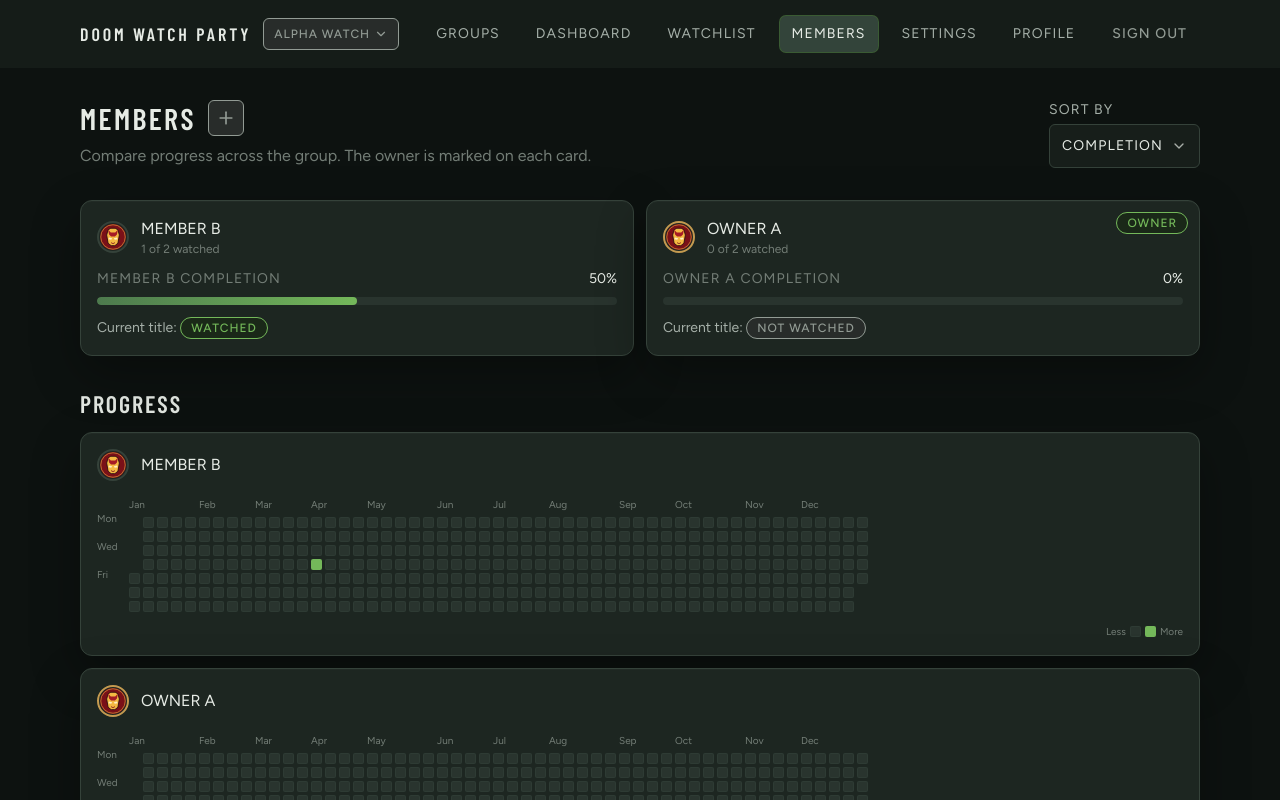
it: members › shows yearly watch activity in the progress section
Expected: the heading "Progress" is shown, [80,389,182,418]
Expected: the element with test id "watch-activity-scroll" that starts with "Mon" is shown, [97,498,868,612]
Hover over the cell named "1 WATCH ON APRIL 1ST": (316, 564) [311,559,322,570]
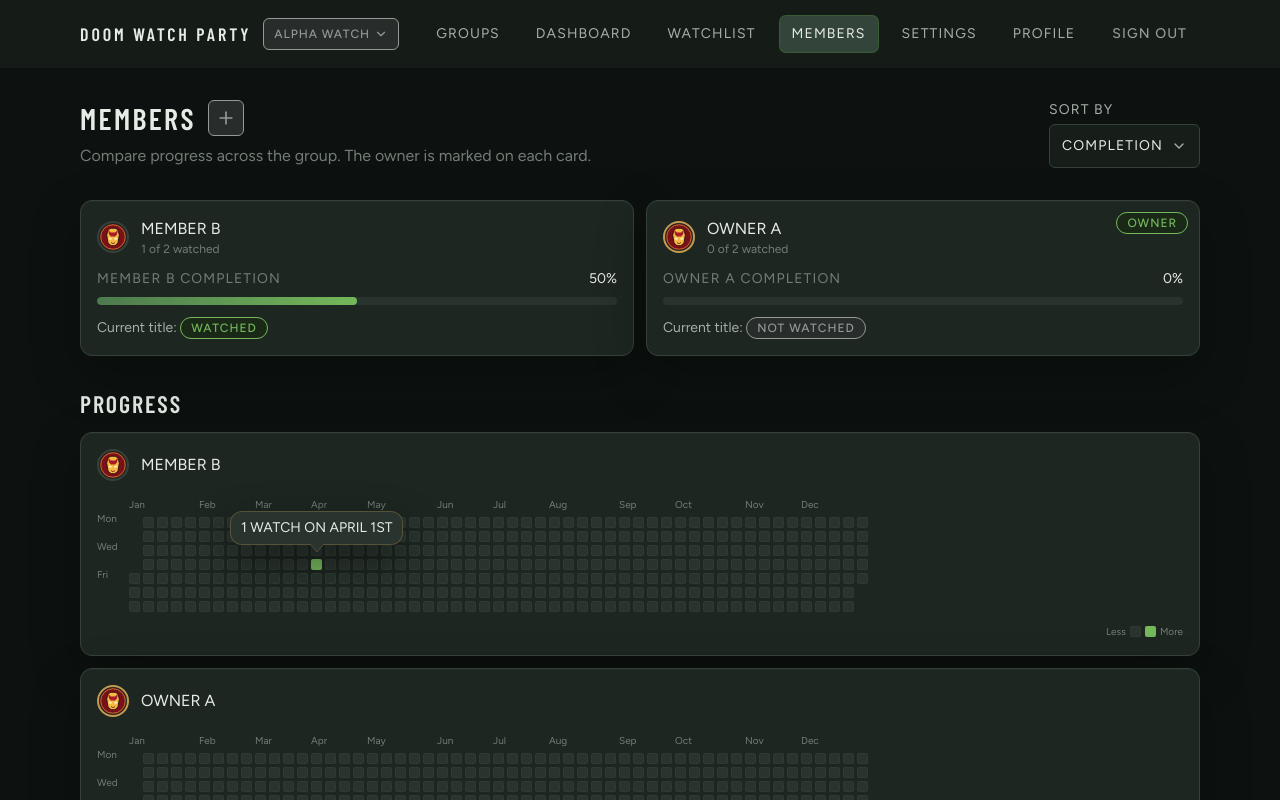
Result: the tooltip "1 WATCH ON APRIL 1ST" is shown at [230,511,404,545]
